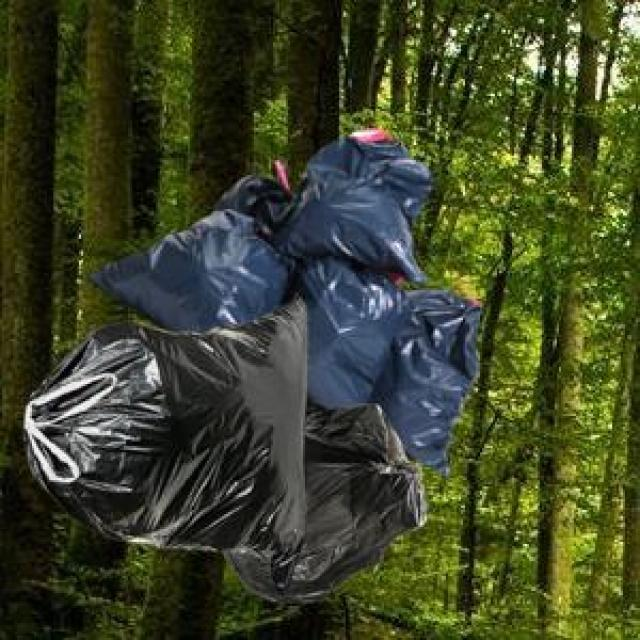waste: (27, 308, 313, 556), (250, 403, 430, 601), (94, 208, 280, 328), (282, 137, 434, 267), (284, 269, 400, 416), (396, 287, 486, 467)
